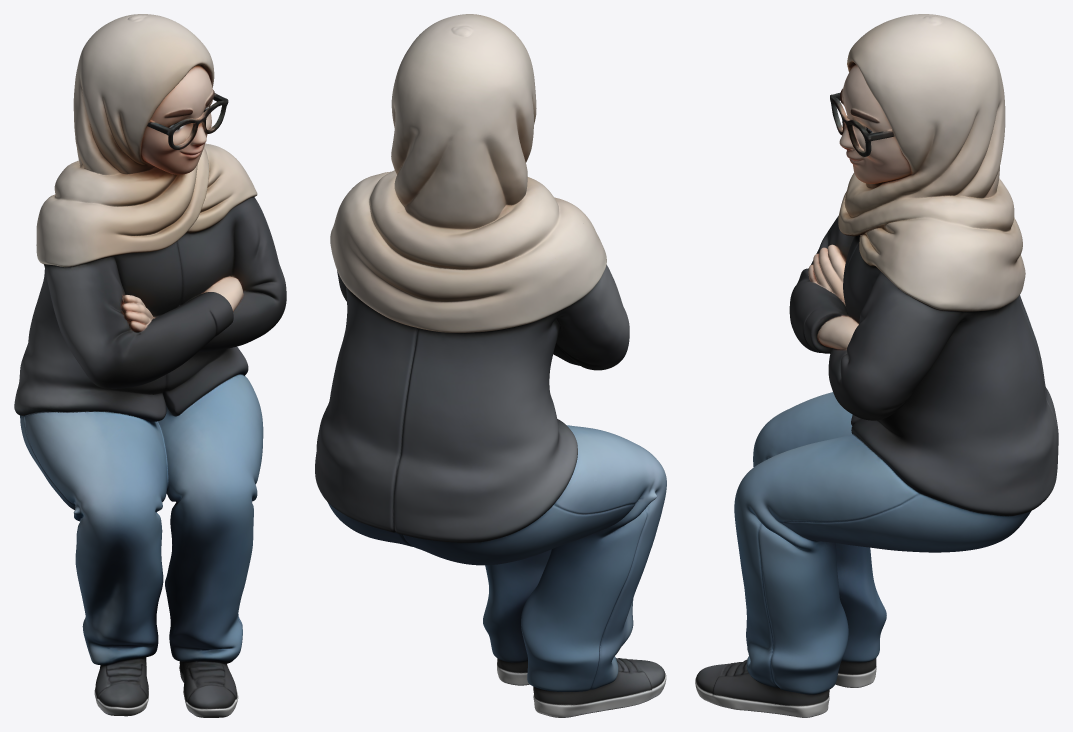
The model's file is HauraFS.fbx.
3 views of the same model, side by side, from view 1: azimuth 30°, elevation 25°; view 2: azimuth 150°, elevation 25°; view 3: azimuth 270°, elevation 25° (orthographic). The views are drawn at different scales.
Visible parts, largest first — view 1: tripo_node_ef06ba14; view 2: tripo_node_ef06ba14; view 3: tripo_node_ef06ba14.
Boxes of the visible parts, x1,y1,x2,y2 form: tripo_node_ef06ba14: [14, 14, 286, 717]; tripo_node_ef06ba14: [315, 14, 666, 717]; tripo_node_ef06ba14: [695, 14, 1058, 717].
Size of the model in its own units: 0.4019 by 1 by 0.4794.
